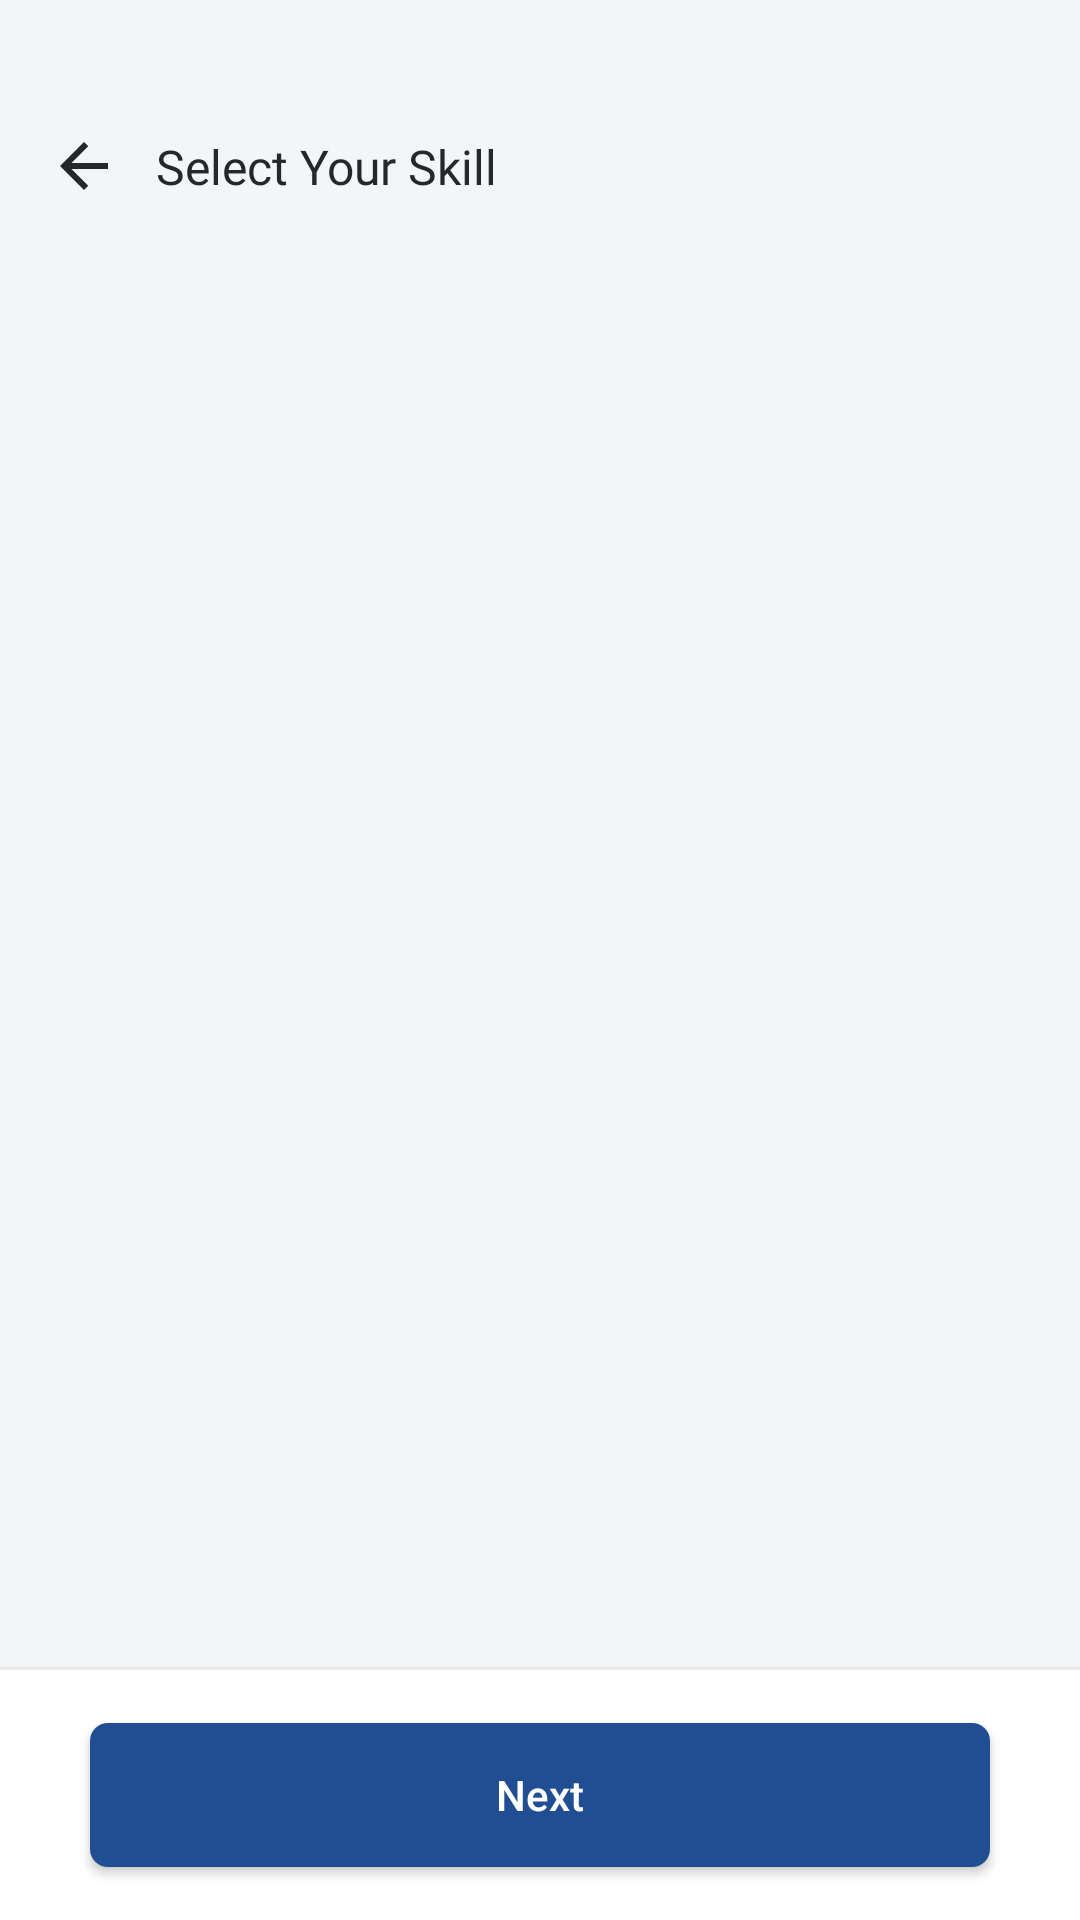

Icon bounding boxes for this 1080w x 1920h phone screenshot, format (x1, y1, x2, y2):
back: (60, 142, 108, 190)
